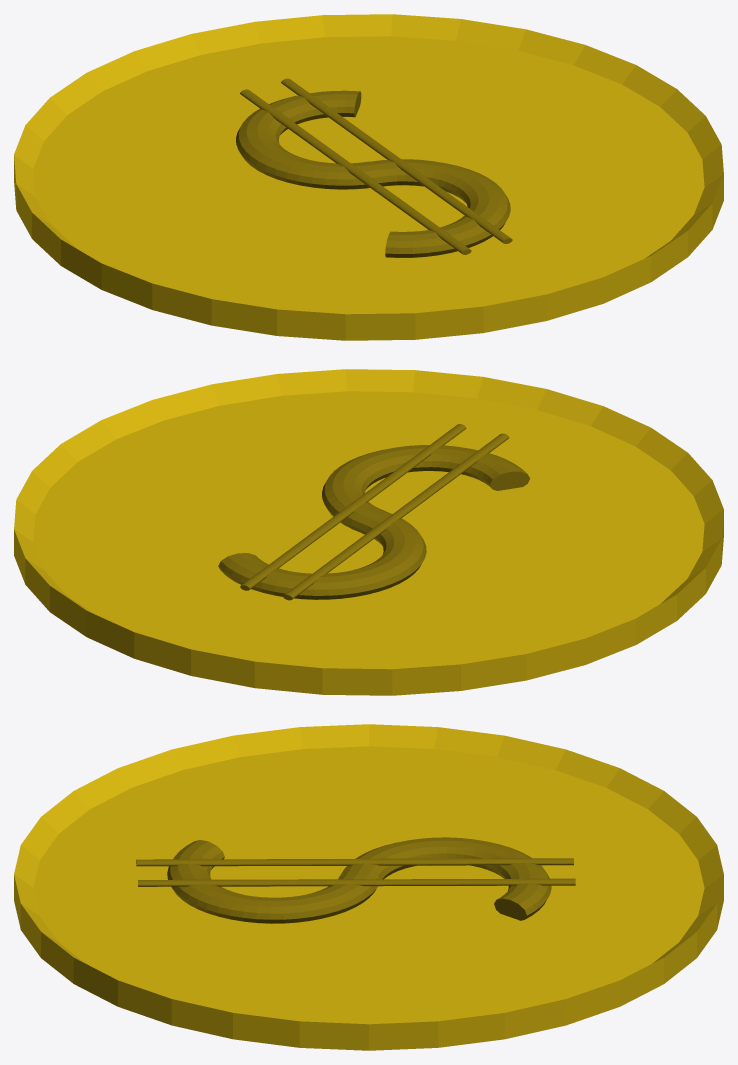
Rendered from MoedaIndividual.fbx.
The picture shows the model from 3 angles, top to bottom: view 1: azimuth 30°, elevation 25°; view 2: azimuth 150°, elevation 25°; view 3: azimuth 270°, elevation 25°; orthographic projection.
Parts seen in each view (by area): view 1: Torus.001; view 2: Torus.001; view 3: Torus.001.
Boxes of the visible parts, <box> form: Torus.001: <box>14,14,723,340</box>; Torus.001: <box>14,369,723,695</box>; Torus.001: <box>14,724,723,1050</box>.
Bounding box in the file's own units: 51 × 2.47 × 51.
